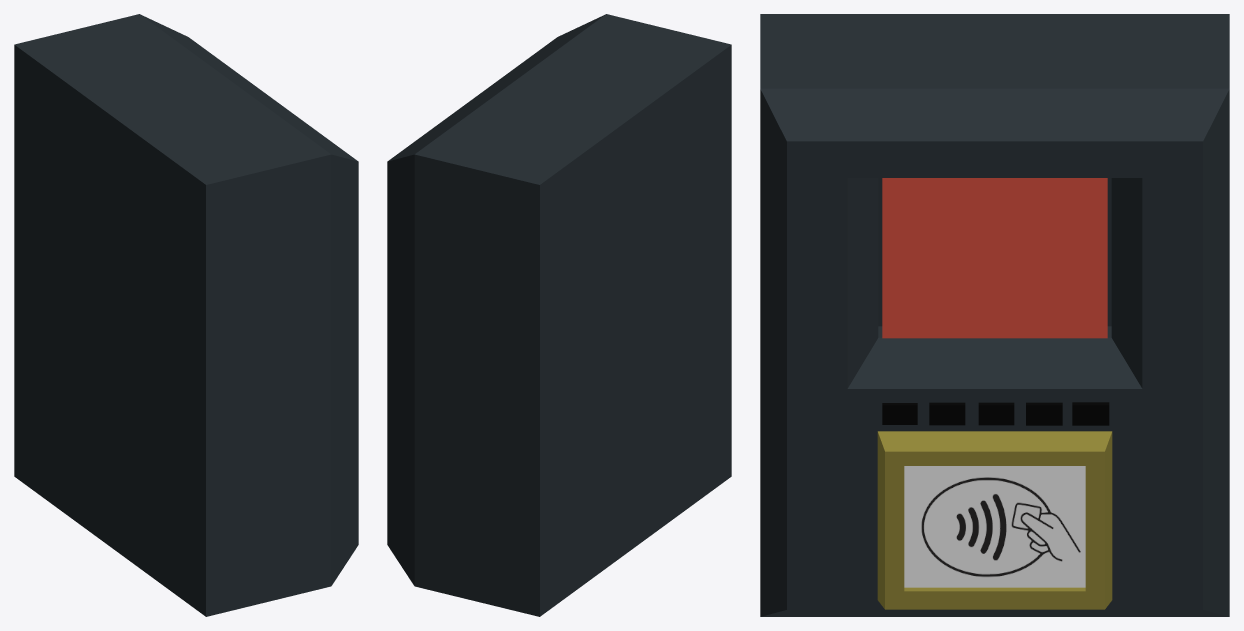
The model's file is CardReader.fbx.
The picture shows the model from 3 angles, left to right: view 1: azimuth 30°, elevation 25°; view 2: azimuth 150°, elevation 25°; view 3: azimuth 270°, elevation 25°; orthographic projection. The views are drawn at different scales.
Visible parts, largest first — view 1: Cube; view 2: Cube; view 3: Cube, Cube.002, Cube.001, Cube.008, Cube.007, Cube.005, Cube.006, Cube.004.
Part boxes in pixels (bbox=[...]): Cube: bbox=[14, 14, 358, 616]; Cube: bbox=[387, 14, 731, 616]; Cube: bbox=[760, 14, 1229, 616]; Cube.002: bbox=[877, 431, 1112, 609]; Cube.001: bbox=[882, 178, 1107, 338]; Cube.008: bbox=[1072, 402, 1109, 425]; Cube.007: bbox=[1026, 402, 1062, 425]; Cube.005: bbox=[929, 402, 965, 425]; Cube.006: bbox=[978, 402, 1014, 425]; Cube.004: bbox=[882, 403, 917, 424].
Size of the model in its own units: 639 by 1399 by 1127.
